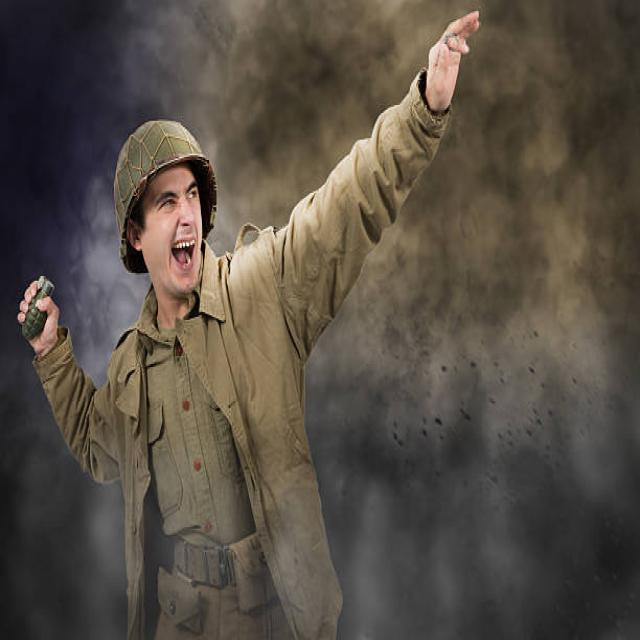grenade: (21, 274, 58, 344)
